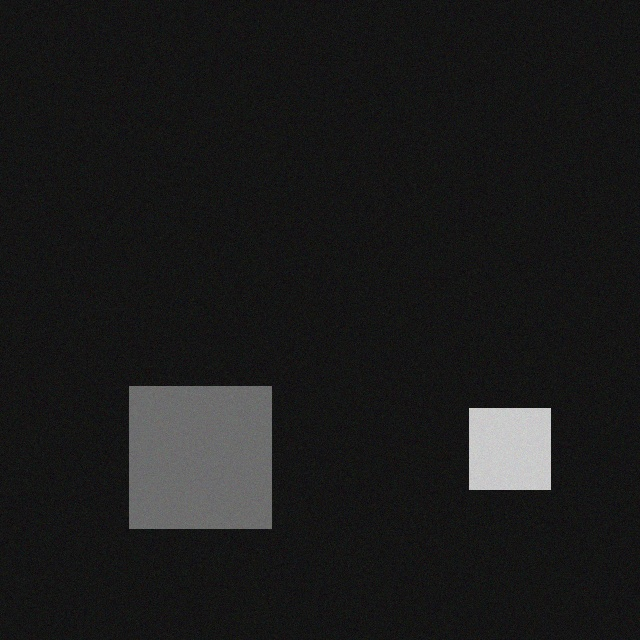square: (135, 386, 277, 528), (475, 408, 556, 489)
